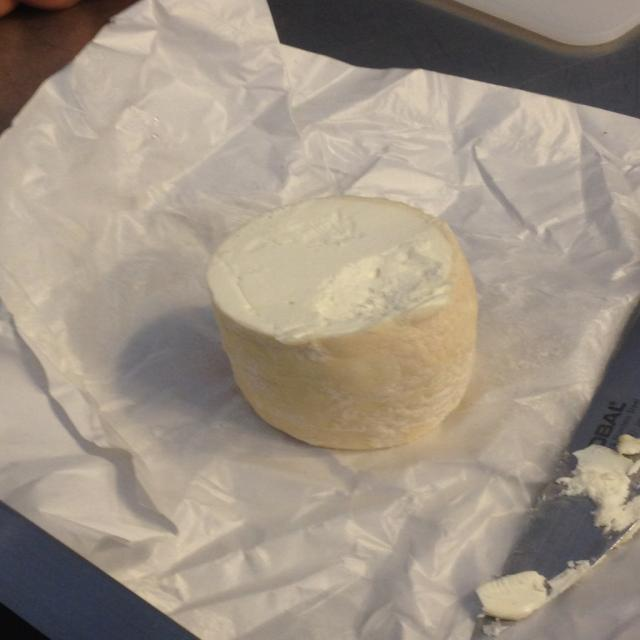Cheese: (202, 195, 483, 455)
